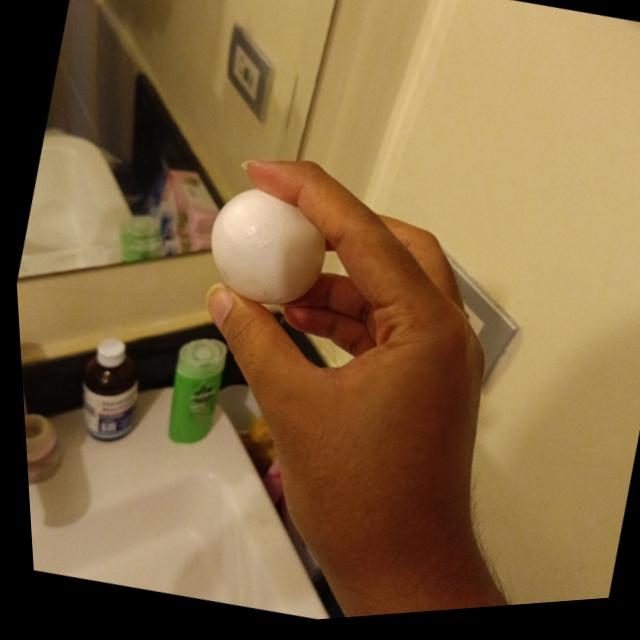egg: (195, 182, 335, 318)
